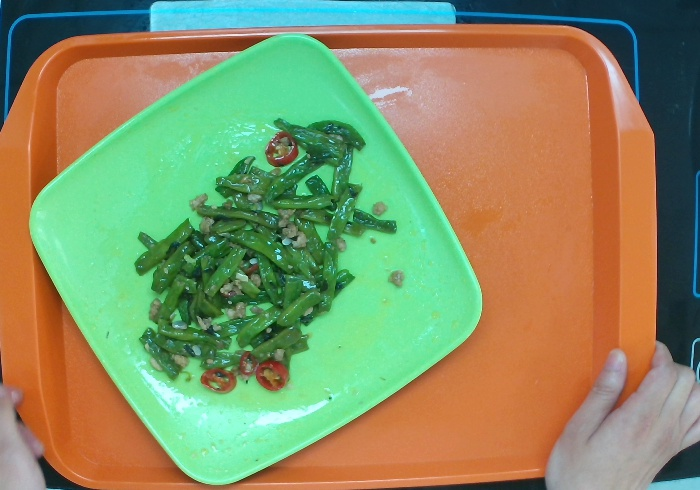ZNLD-Lv_Fang_Pan: (26, 29, 490, 490)
